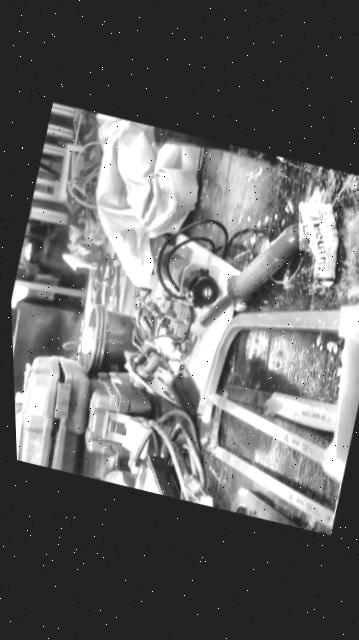pot: (143, 124, 235, 164)
